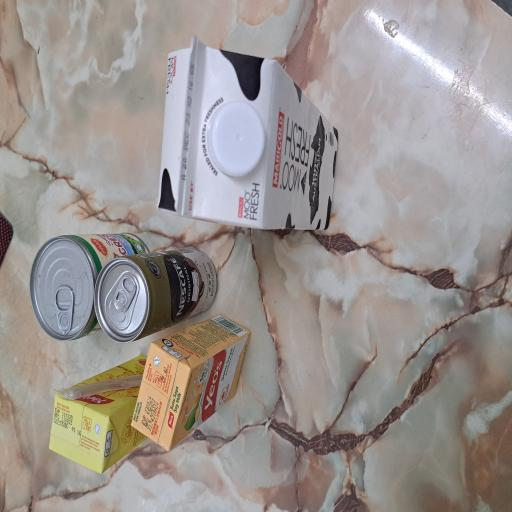can: (128, 39, 210, 201), (126, 124, 198, 290)
drink carton: (211, 208, 357, 452), (45, 174, 149, 336), (28, 64, 118, 202)
plastic bottle cap: (250, 276, 310, 356)
pop tab: (133, 72, 171, 99), (150, 151, 178, 182)
